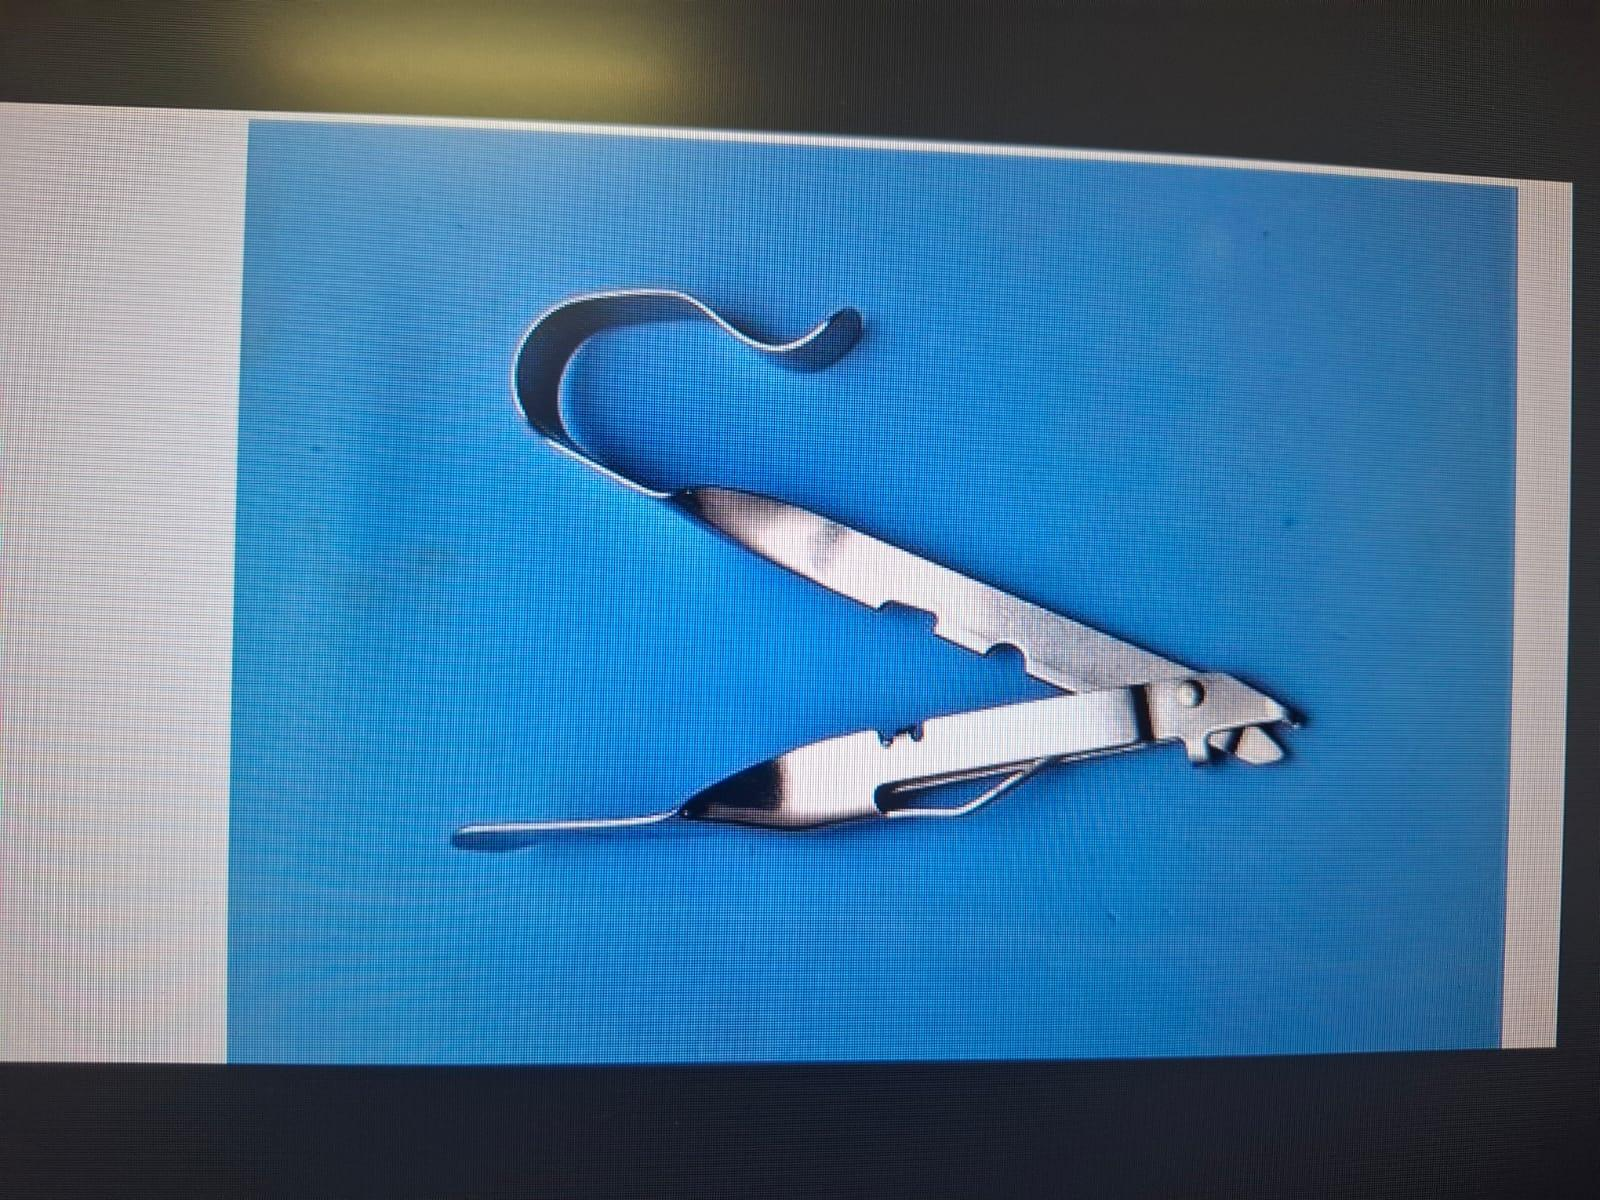Stapler Remover: (426, 274, 1328, 882)
